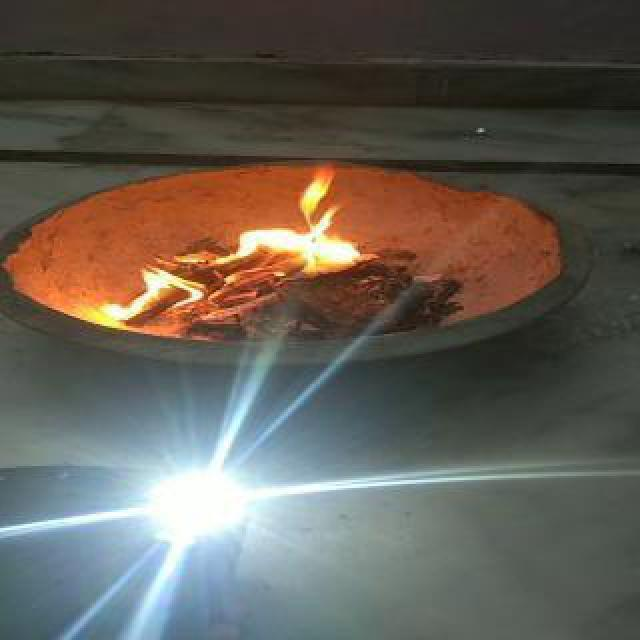Fire: (102, 164, 366, 332)
